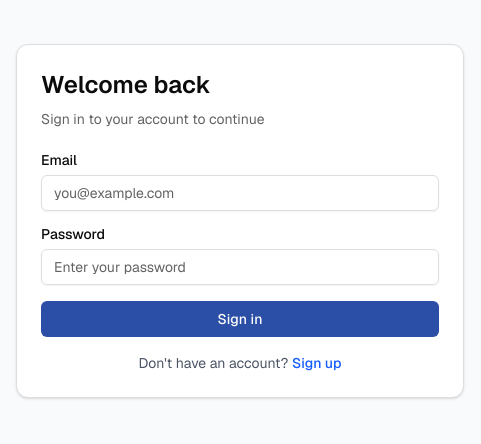
Test case: LoginPage › clears field errors when user types
Step 1. Click the button "Sign in" → point(240, 319), box [41,301,439,337]
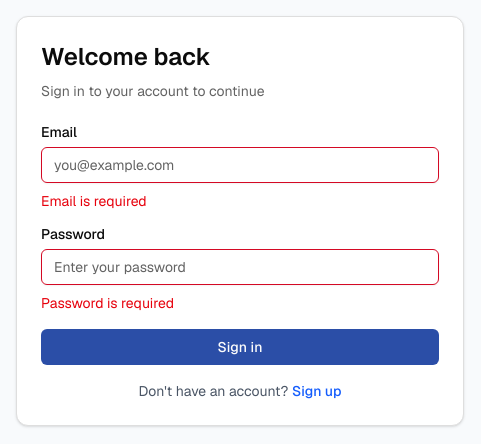
Result: the text "Email is required" is shown at [41,192,147,210]
Step 2. Type "test@test.com" into the field labelled "Email" → point(240, 165), box [41,147,439,183]
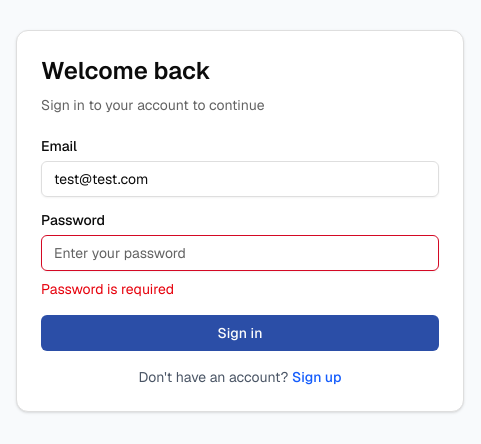
Result: the text "Email is required" is gone
